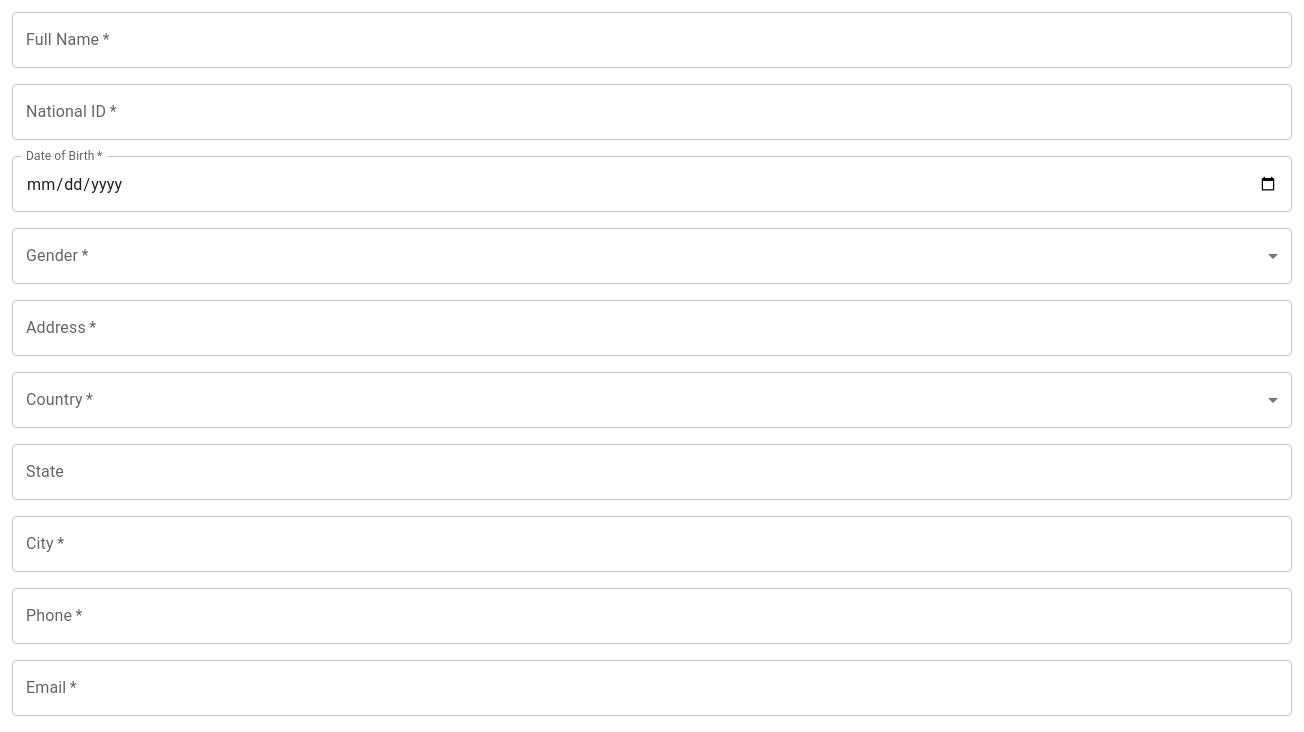
PersonalInfoForm › shows state select when country is selected
Click the dropdown named "Country" next to "Country".
click(652, 400)  # box [12,372,1292,428]
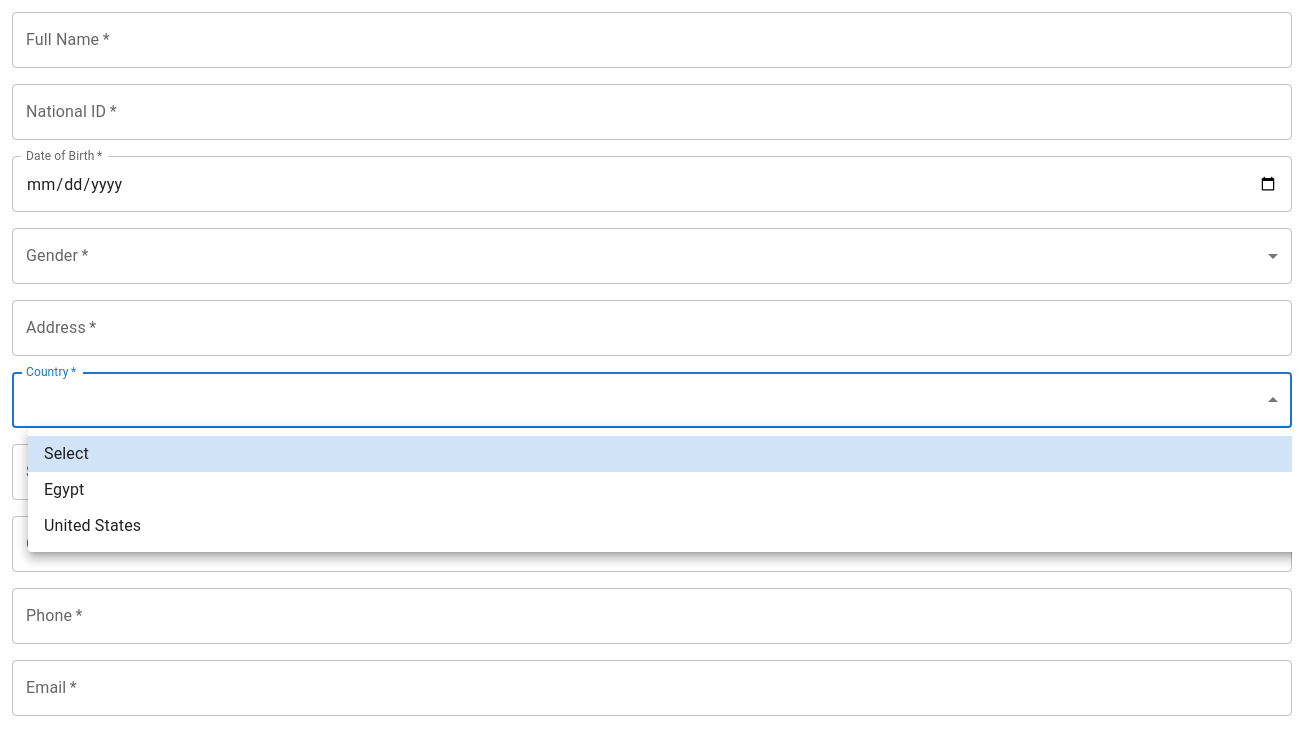
Click the option "Egypt".
click(64, 490)  # box [44,480,84,499]
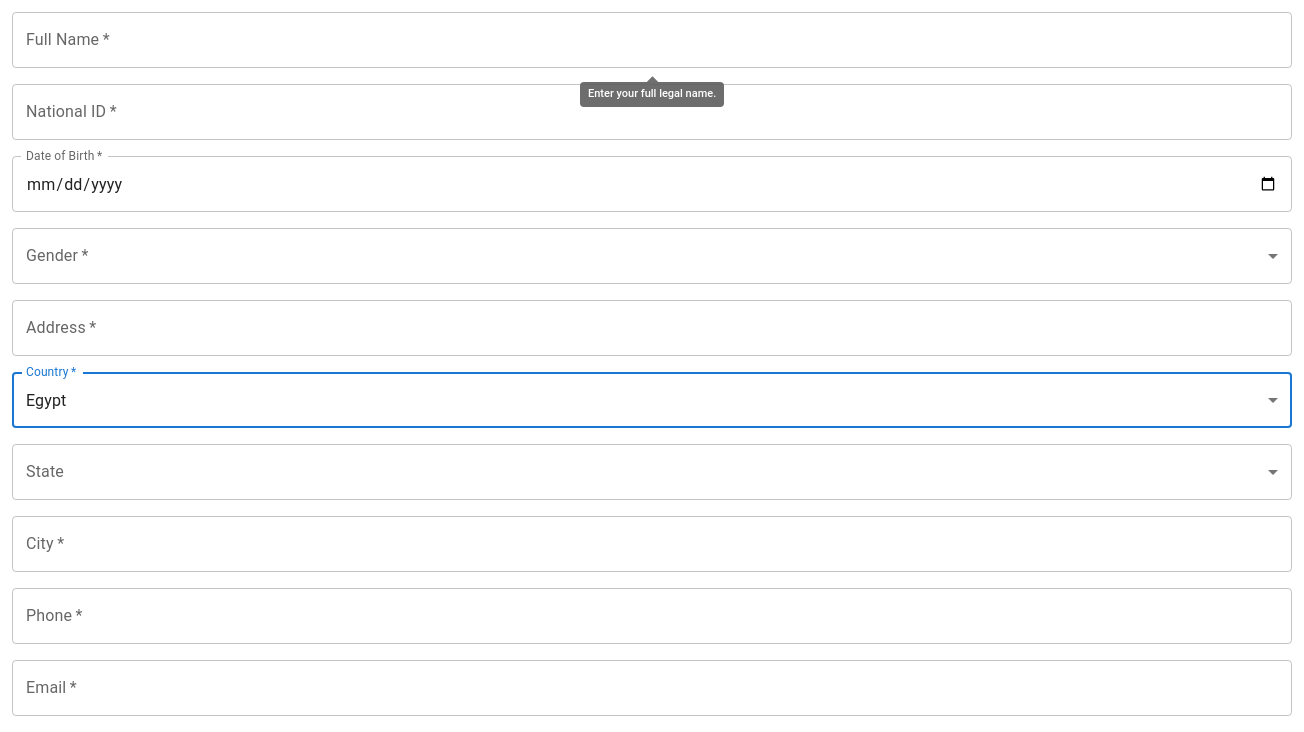
Check: the dropdown named "State" next to "State" is shown, box [12,444,1292,500]
